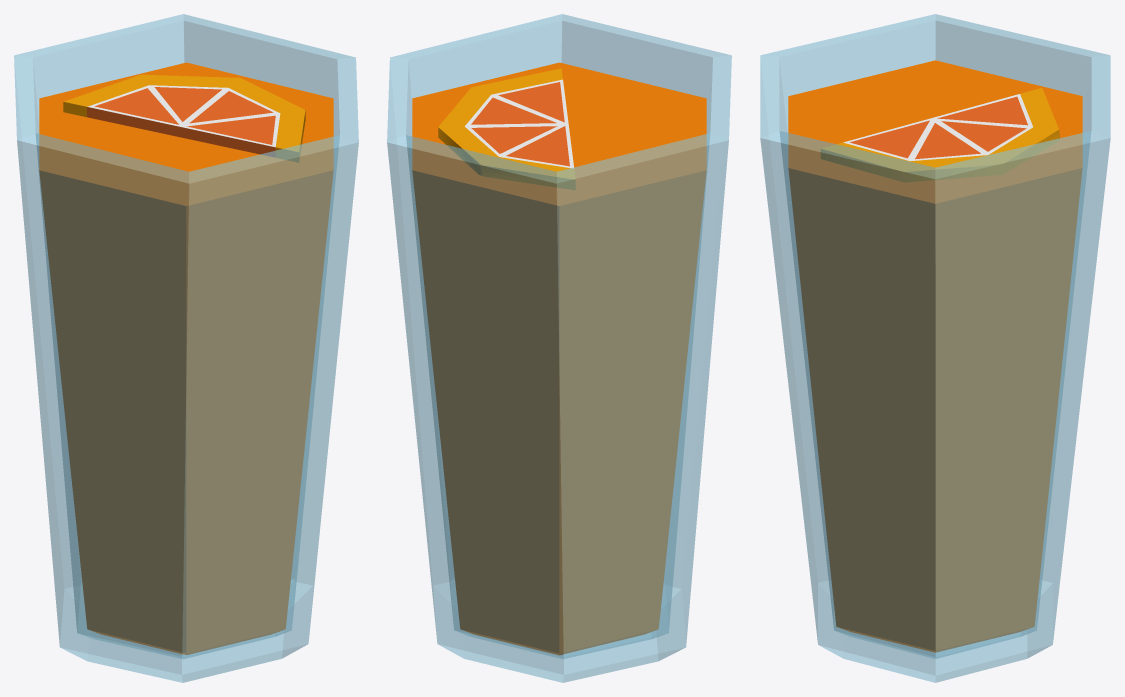
The model's file is PW_orangejuice.fbx.
3 views of the same model, side by side, from view 1: azimuth 30°, elevation 25°; view 2: azimuth 150°, elevation 25°; view 3: azimuth 270°, elevation 25° (orthographic).
Parts seen in each view (by area): view 1: glass, juice, orange; view 2: glass, juice, orange; view 3: glass, juice, orange.
Boxes of the visible parts, x1,y1,x2,y2 form: glass: (14,14,358,682); juice: (39,62,333,654); orange: (63,74,305,162); glass: (387,14,731,682); juice: (412,62,706,654); orange: (438,68,575,189); glass: (760,14,1110,682); juice: (788,60,1082,652); orange: (821,88,1059,182).
Bounding box in the file's own units: 0.1953 × 0.2978 × 0.175.
